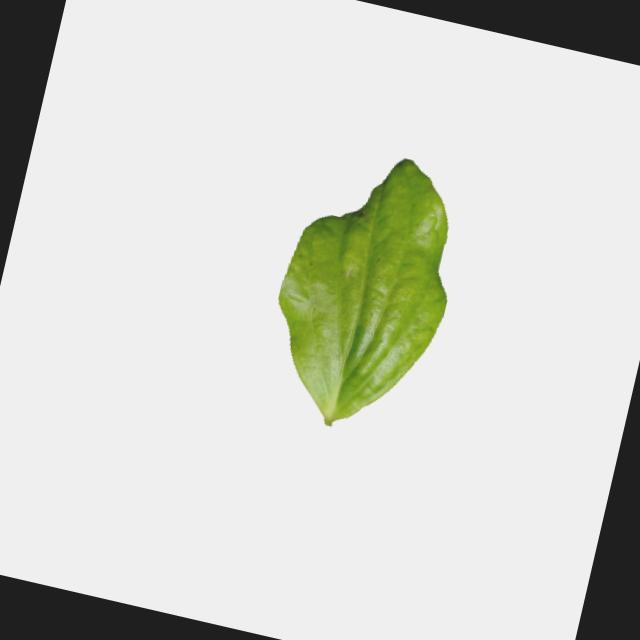yellow-mottle-virus: (250, 141, 483, 455)
